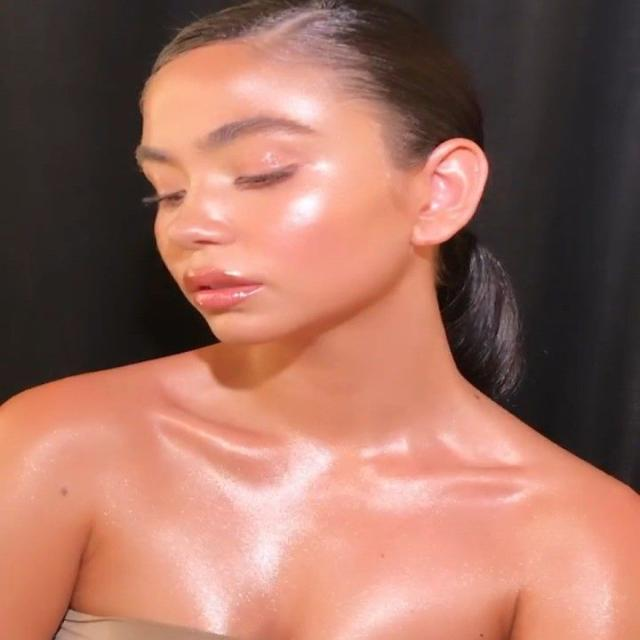Oily-Skin: (282, 201, 334, 261), (251, 85, 305, 139)
